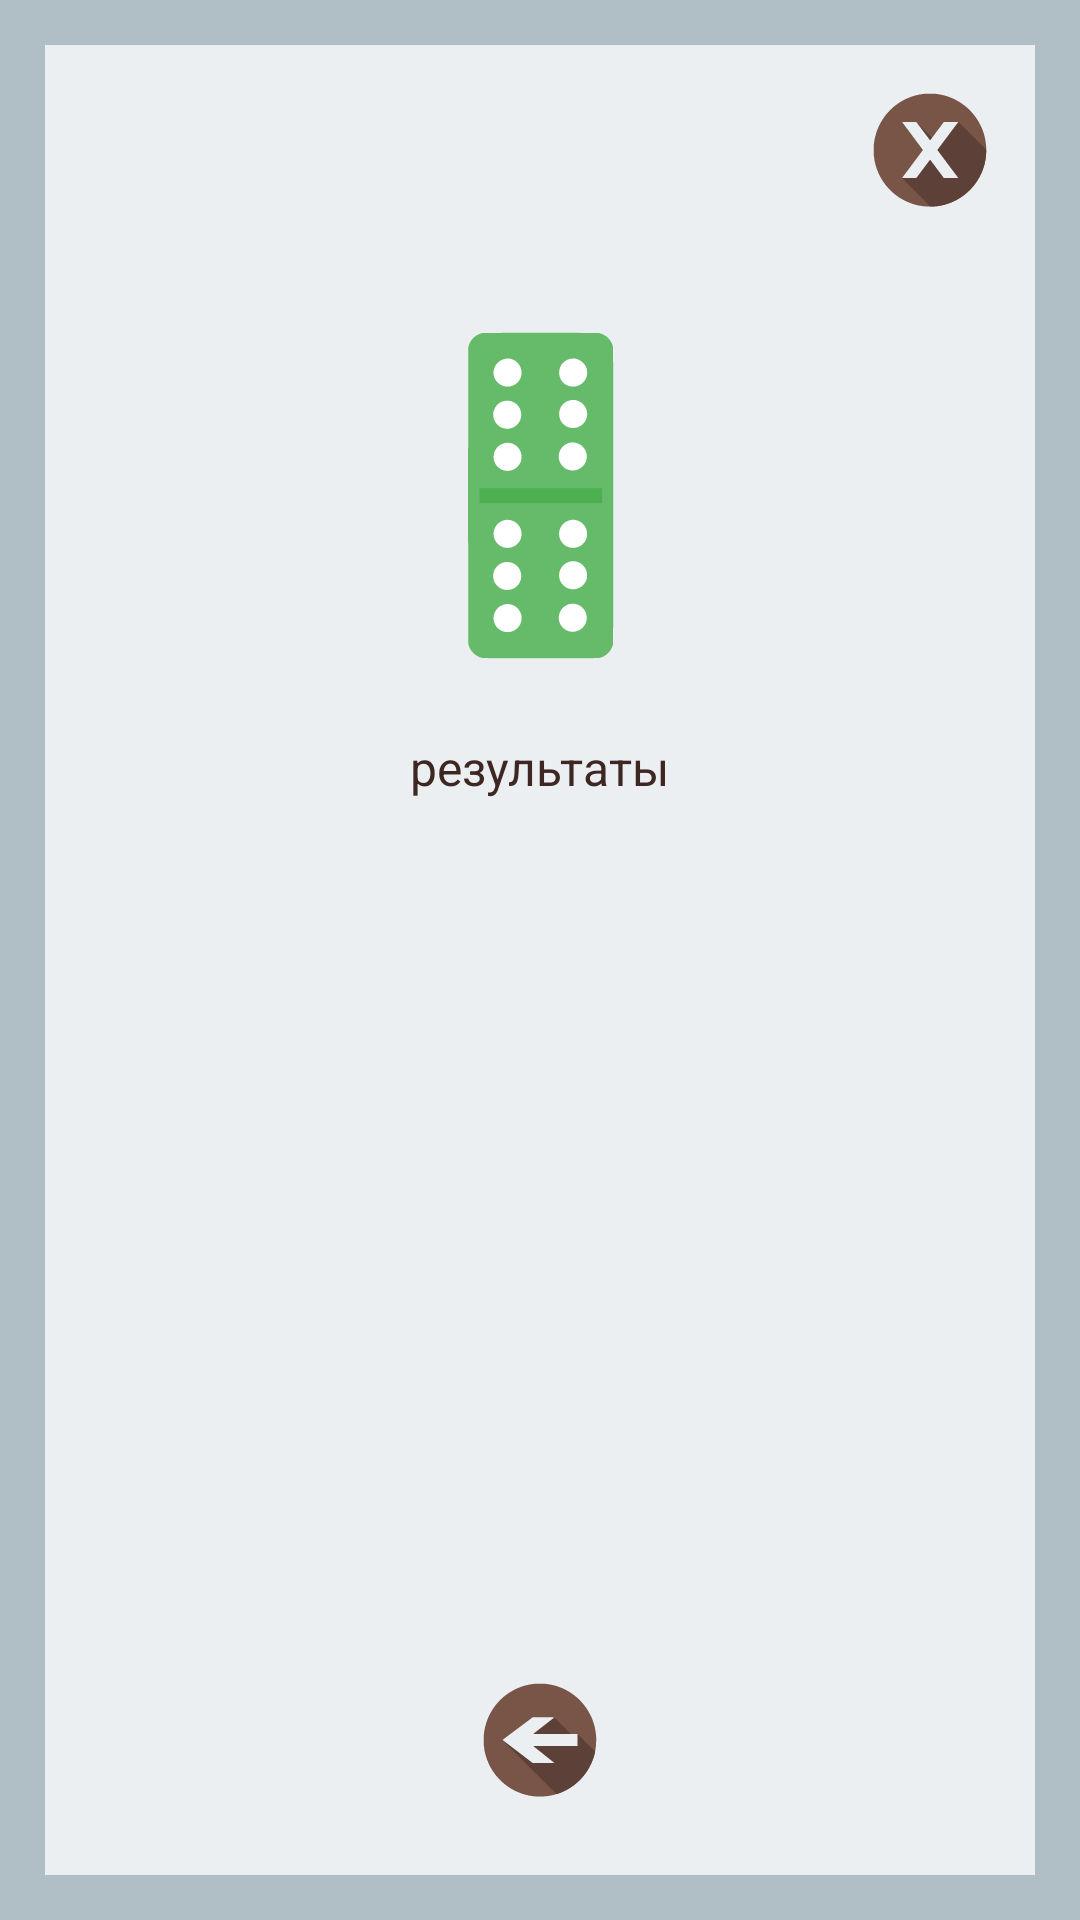

Screen size 1080x1920. Icon name, then its box in pixels as (x1, y1, x2, y2):
domino: (468, 332, 614, 659)
